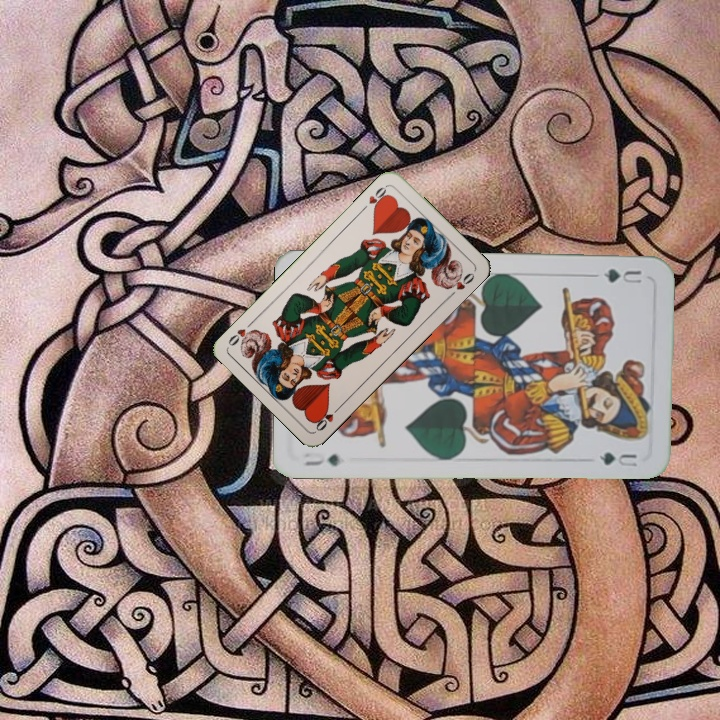GU: (599, 265, 645, 287), (299, 448, 343, 468)
HO: (358, 182, 391, 214), (310, 402, 344, 433)
